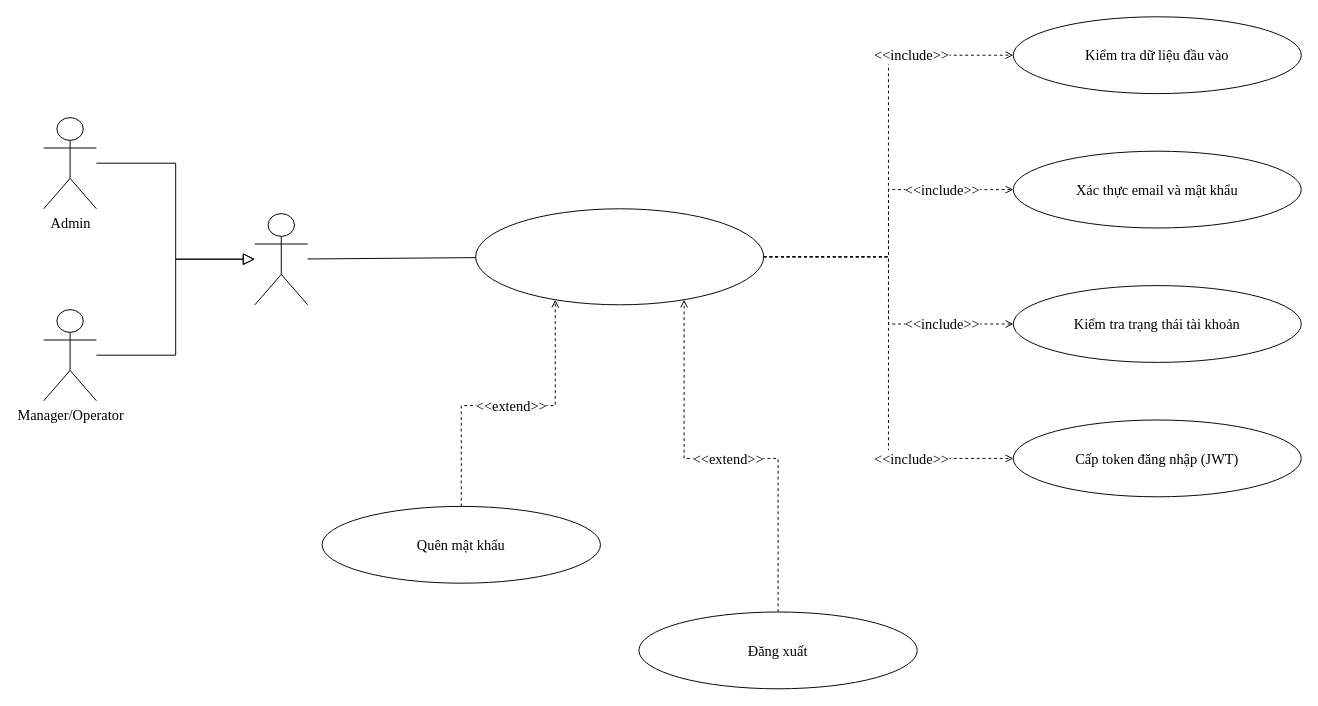
The diagram is 1318 pixels wide and 706 high, and some of its shapes have lost their labels. Here are the shapes that lost their labels. From the top down, the box of each, then its label:
(254, 213, 308, 305): Nhân viên nội bộ
(475, 208, 764, 305): Đăng nhập hệ thống
